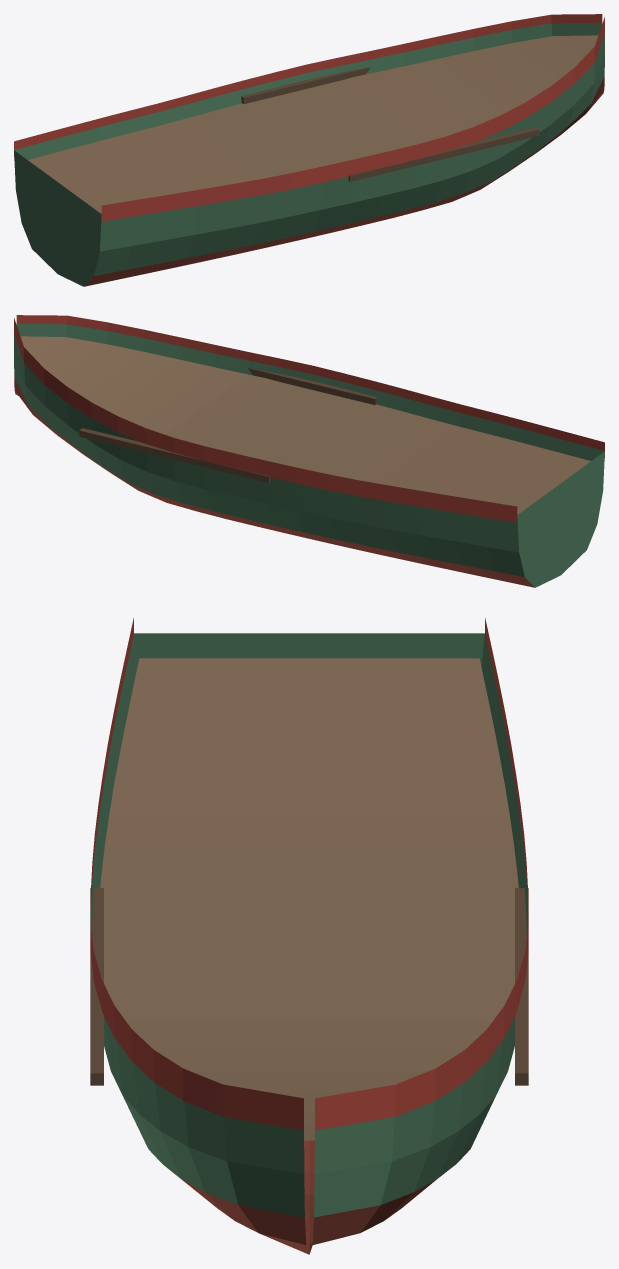
File: sandal-yesil.glb
The picture shows the model from 3 angles, top to bottom: view 1: azimuth 30°, elevation 25°; view 2: azimuth 150°, elevation 25°; view 3: azimuth 270°, elevation 25°; orthographic projection. The views are drawn at different scales.
Visible parts, largest first — view 1: ahsap, tekne_yesil, tekne_kirmizi, karina, ahsap_koyu; view 2: ahsap, tekne_yesil, tekne_kirmizi, karina, ahsap_koyu; view 3: ahsap, tekne_yesil, tekne_kirmizi, karina, ahsap_koyu.
Part boxes in pixels (x1,y1,x2,y2): ahsap: (28, 35, 598, 213); tekne_yesil: (14, 22, 604, 286); tekne_kirmizi: (14, 14, 604, 221); karina: (84, 76, 604, 286); ahsap_koyu: (241, 67, 539, 181); ahsap: (20, 336, 590, 514); tekne_yesil: (14, 323, 604, 587); tekne_kirmizi: (14, 315, 604, 522); karina: (14, 377, 534, 587); ahsap_koyu: (79, 368, 377, 482); ahsap: (100, 658, 518, 1140); tekne_yesil: (90, 633, 528, 1217); tekne_kirmizi: (90, 618, 528, 1130); karina: (165, 1140, 436, 1254); ahsap_koyu: (90, 888, 528, 1085).
Size of the model in its own units: 4.6 by 1.02 by 1.6.
